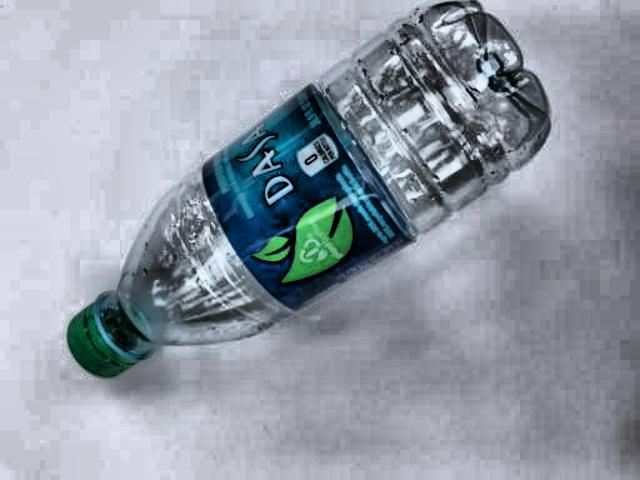Bottles: (28, 4, 567, 390)
